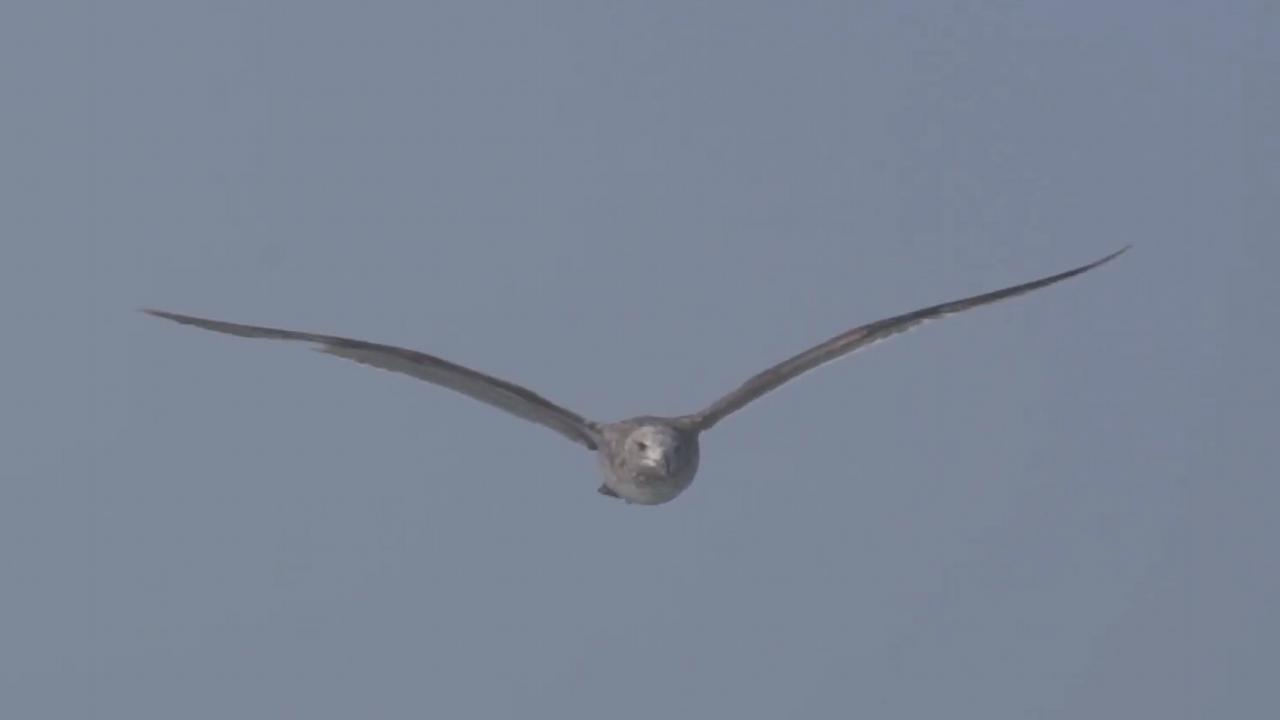Bird: (132, 233, 1147, 518)
